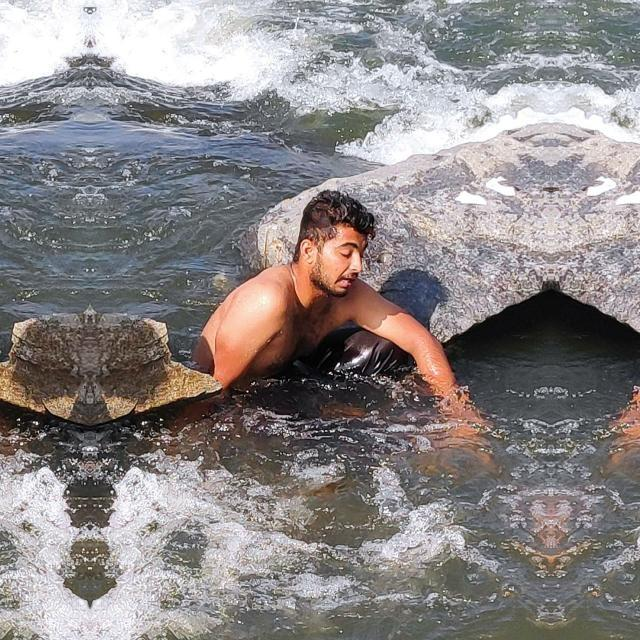person: (231, 190, 405, 450)
